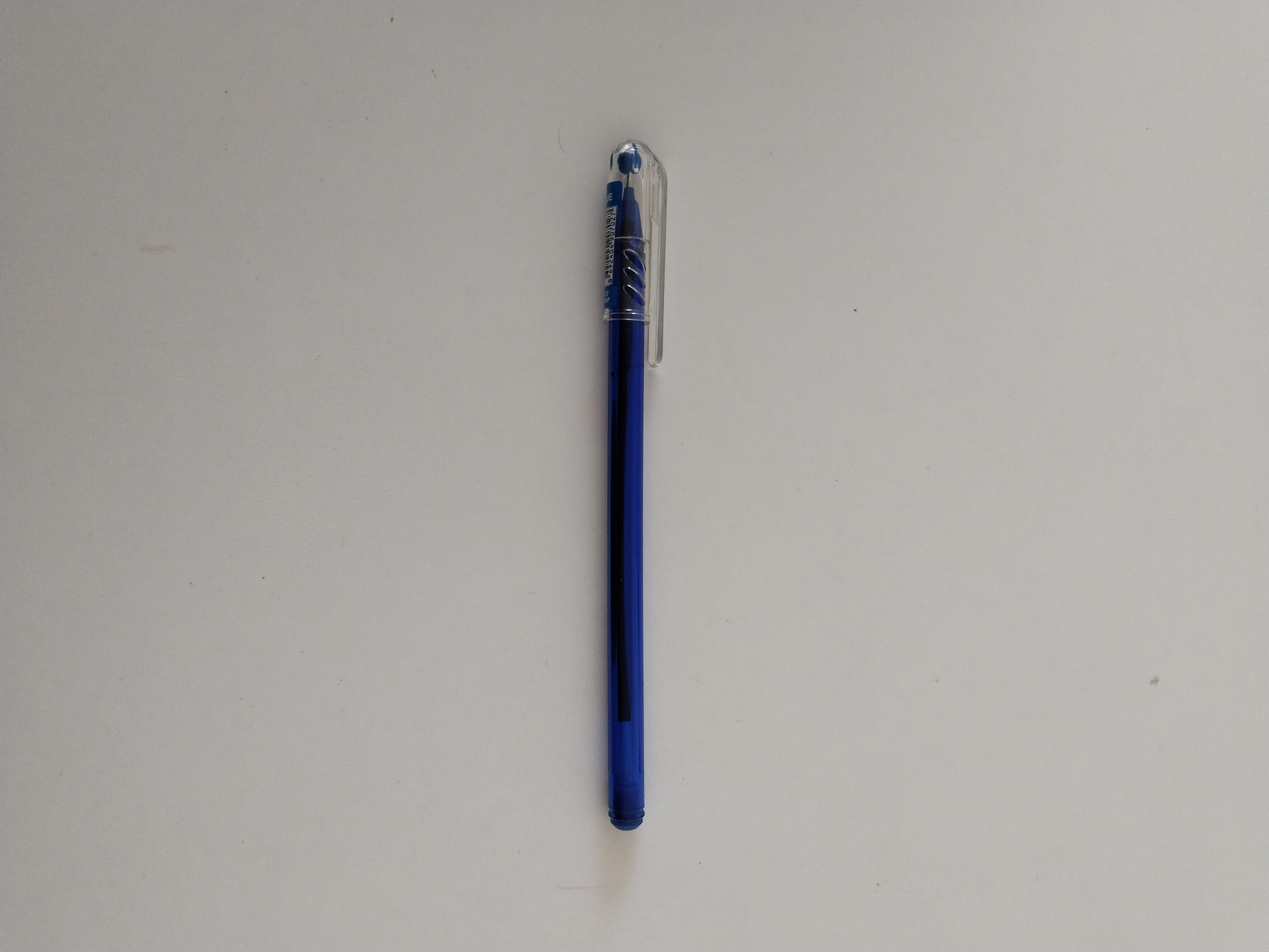pensan_mavi_tukenmez_kalem: (600, 141, 665, 835)
